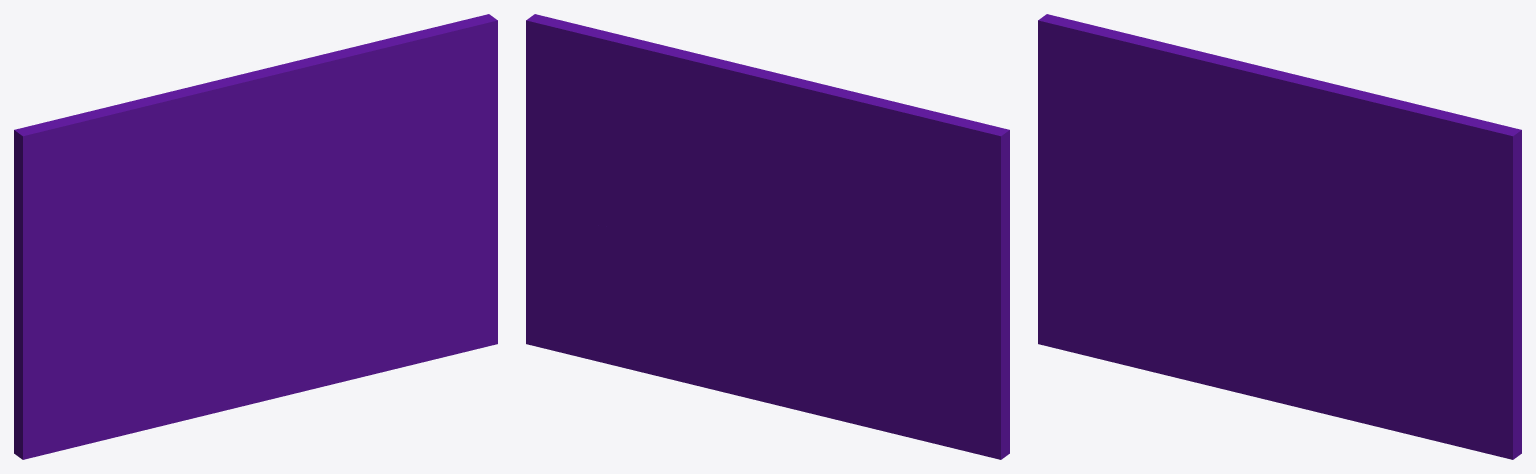
File: ElevatorWall_3_chunks.fbx
The picture shows the model from 3 angles, left to right: view 1: azimuth 30°, elevation 25°; view 2: azimuth 150°, elevation 25°; view 3: azimuth 330°, elevation 25°; orthographic projection.
Visible parts, largest first — view 1: ElevatorWall_3_0, ElevatorWall_3_2, ElevatorWall_3_1; view 2: ElevatorWall_3_0, ElevatorWall_3_2, ElevatorWall_3_1, ElevatorWall_3_3; view 3: ElevatorWall_3_0, ElevatorWall_3_2, ElevatorWall_3_1.
Part boxes in pixels (left/top/right/bottom): ElevatorWall_3_0: left=14, top=92, right=262, bottom=459; ElevatorWall_3_2: left=182, top=14, right=497, bottom=240; ElevatorWall_3_1: left=143, top=222, right=497, bottom=430; ElevatorWall_3_0: left=785, top=89, right=1009, bottom=459; ElevatorWall_3_2: left=526, top=14, right=842, bottom=238; ElevatorWall_3_1: left=526, top=220, right=888, bottom=432; ElevatorWall_3_3: left=755, top=94, right=857, bottom=267; ElevatorWall_3_0: left=1038, top=14, right=1278, bottom=373; ElevatorWall_3_2: left=1205, top=55, right=1521, bottom=337; ElevatorWall_3_1: left=1158, top=242, right=1521, bottom=459.
Bounding box in the file's own units: 1790 × 1165 × 57.27.
